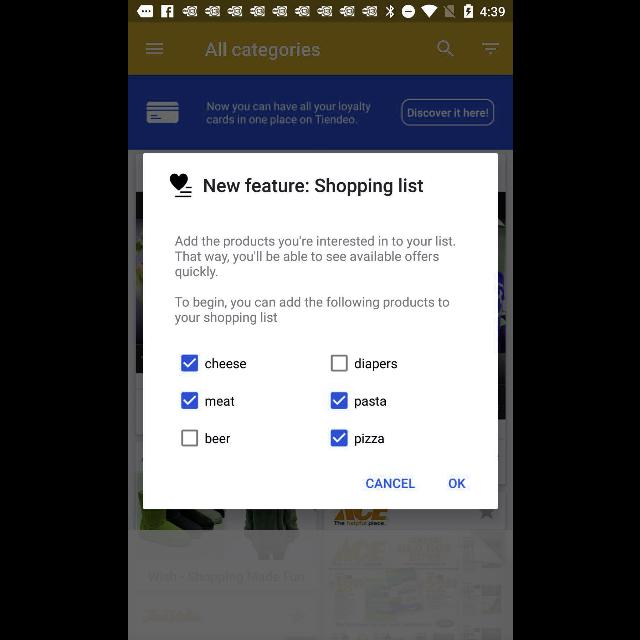checkbox: (180, 354, 198, 372), (329, 354, 346, 372), (180, 429, 198, 446), (329, 429, 346, 446), (180, 392, 198, 408), (329, 392, 346, 408)
icon: (146, 102, 178, 124), (169, 174, 191, 198), (436, 41, 454, 58), (144, 43, 162, 55), (481, 43, 499, 55)
panel: (142, 153, 498, 509)
text: (174, 236, 454, 280), (174, 297, 448, 325), (206, 102, 370, 126), (204, 178, 422, 196), (204, 41, 318, 60), (354, 358, 396, 370), (366, 478, 414, 488), (204, 358, 246, 368), (354, 397, 386, 409), (354, 434, 384, 446), (204, 396, 233, 406), (204, 432, 230, 443), (448, 478, 464, 488)
textbutton: (401, 100, 494, 126)
uppertaskbar: (128, 1, 512, 23)
